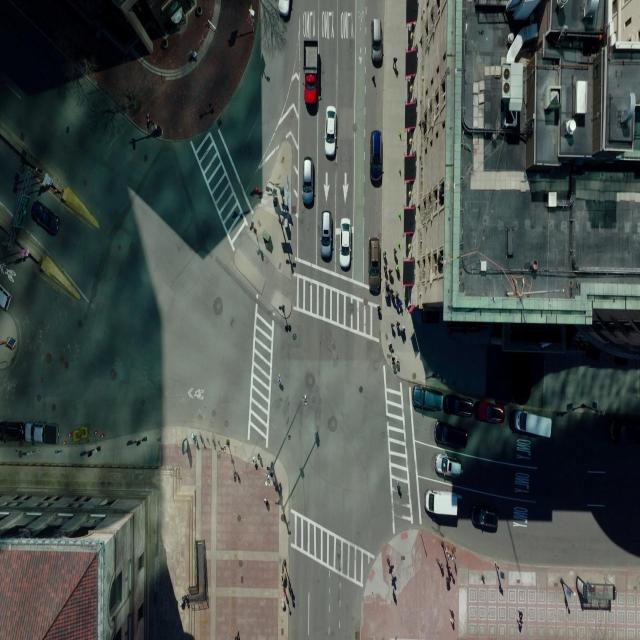Car: (322, 91, 342, 168), (30, 200, 60, 236), (435, 420, 467, 451), (412, 386, 445, 414), (444, 393, 474, 418), (472, 504, 498, 532), (610, 420, 639, 445), (368, 237, 381, 291), (476, 400, 504, 424), (339, 218, 352, 268), (302, 158, 315, 206), (320, 212, 333, 260), (370, 130, 382, 181), (371, 18, 383, 64), (0, 421, 25, 442), (304, 72, 318, 106), (170, 1, 184, 26), (0, 282, 12, 311), (152, 123, 162, 137), (250, 186, 262, 196), (377, 305, 382, 319)
Van: (514, 409, 552, 439), (425, 489, 457, 519), (24, 420, 60, 444), (434, 453, 461, 479), (278, 0, 291, 19)
